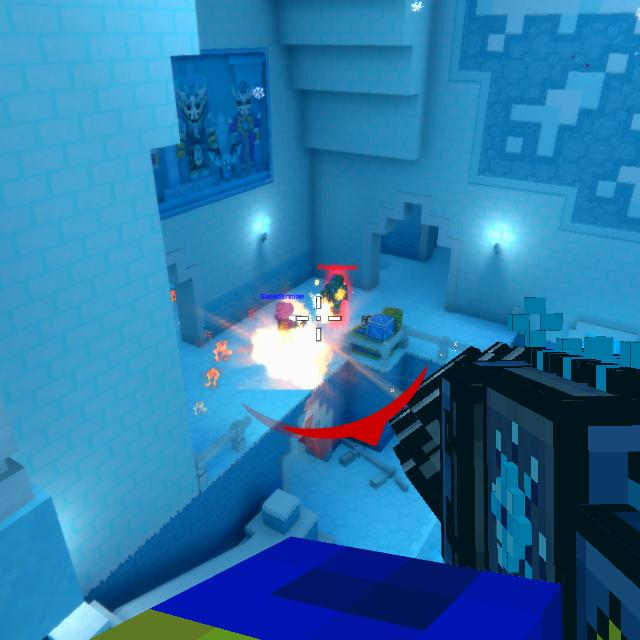Enemy: (325, 272, 350, 316)
